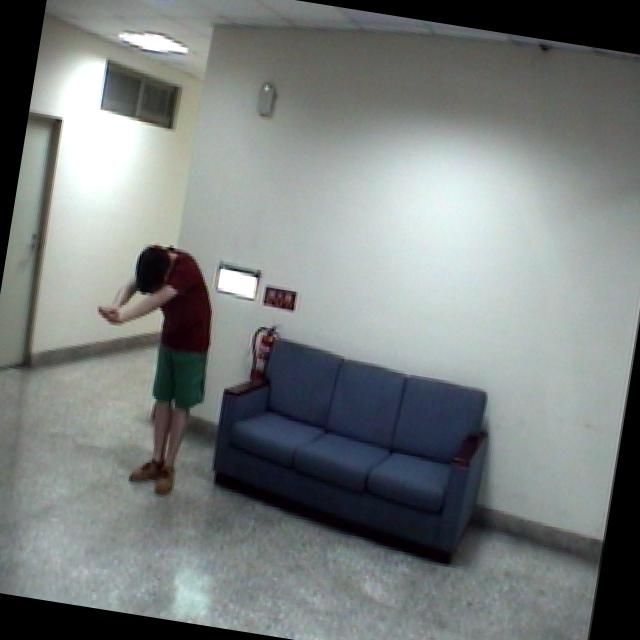bend: (68, 232, 233, 511)
